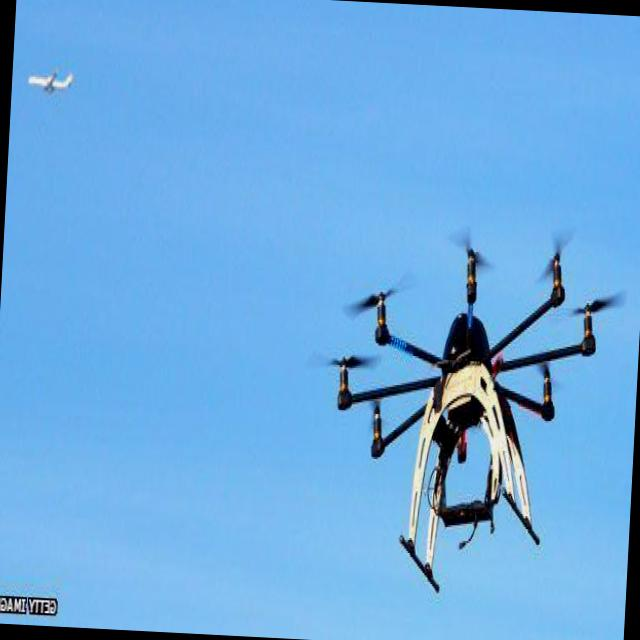drone: (324, 212, 628, 604)
